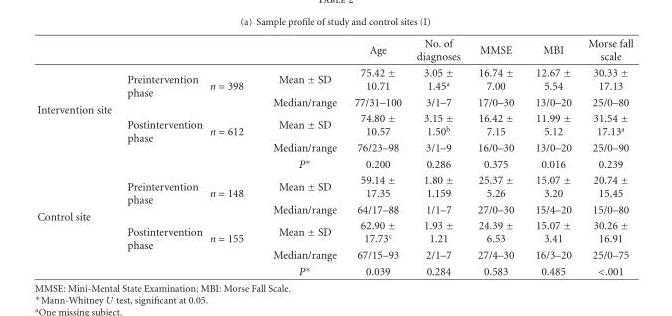table: (36, 36, 632, 277)
table column: (118, 36, 205, 277), (257, 36, 344, 277), (36, 36, 118, 277), (344, 36, 408, 277), (408, 36, 468, 277), (523, 36, 579, 277), (468, 36, 523, 277), (579, 36, 632, 277), (205, 36, 257, 277)
table column header: (36, 36, 632, 64)
table row: (36, 109, 632, 139), (36, 171, 632, 201), (36, 64, 632, 93), (36, 217, 632, 246), (36, 36, 632, 64), (36, 93, 632, 109), (36, 139, 632, 155), (36, 155, 632, 171), (36, 201, 632, 217), (36, 246, 632, 262), (36, 262, 632, 277)
table spanning cell: (36, 64, 118, 171), (36, 171, 118, 277), (118, 109, 205, 155), (118, 171, 205, 217), (118, 64, 205, 109), (118, 217, 205, 262), (205, 109, 257, 155), (205, 171, 257, 217), (205, 64, 257, 109), (205, 217, 257, 262)
